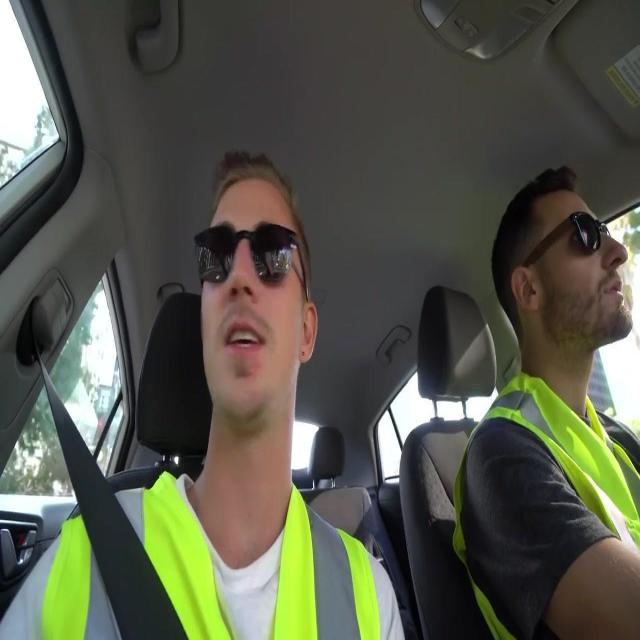Vest: (41, 475, 380, 637), (453, 369, 639, 637)
